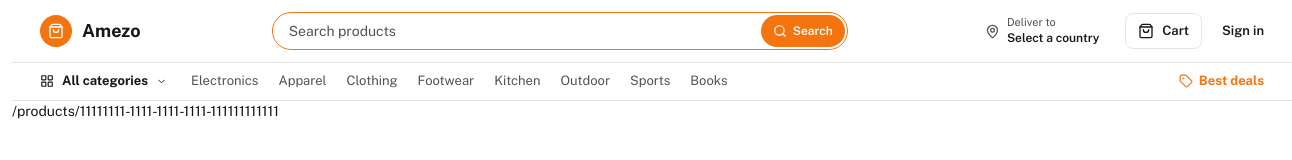
Scenario: SiteHeader › sends a search from any page to /search
Type "laptop" into the field labelled "Search products" at (523, 31), box left=289, top=15, right=757, bottom=47
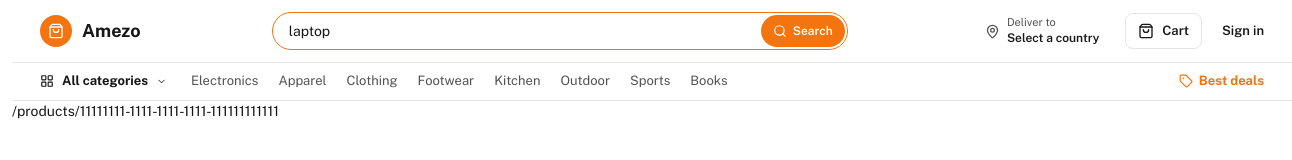
Click the button "Search" at (803, 31), box left=761, top=15, right=845, bottom=47
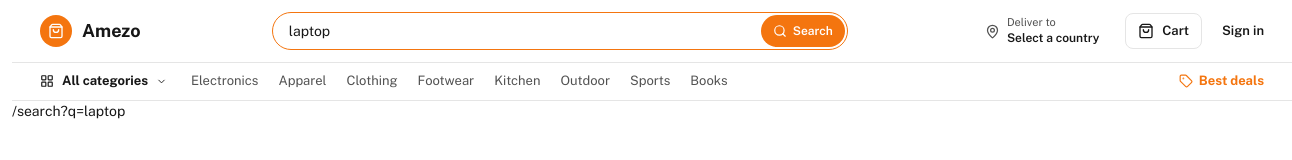
Expected: the text with test id "location" reads "/search?q=laptop", left=12, top=103, right=125, bottom=119
